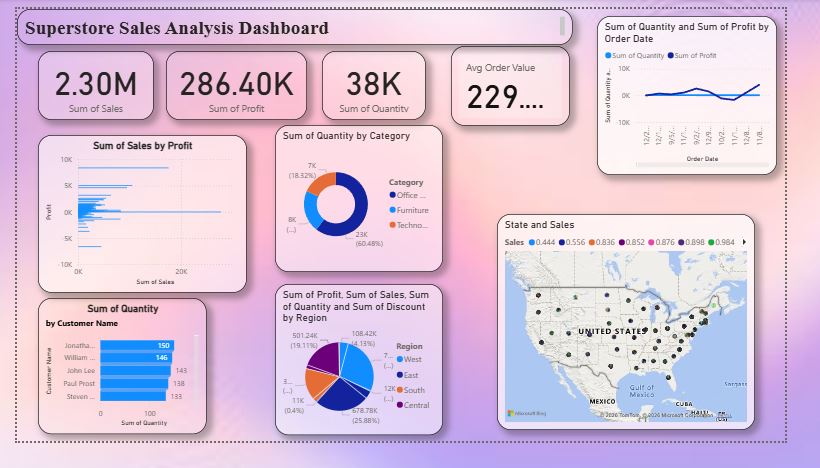

Layout of this report page (visuals, bound fields, positions):
{"tool":"powerbi","page":{"name":"Page 1","canvas":[1280,720],"ordinal":0},"visuals":[{"type":"clusteredBarChart","fields":{"Category":["Sample - Superstore.Profit"],"Y":["Sum(Sample - Superstore.Sales)"]},"box":[35,210,347.5,262.5],"z":0},{"type":"textbox","box":[0,0,926.2,60],"z":1000},{"type":"card","fields":{"Values":["Sum(Sample - Superstore.Sales)"]},"box":[35,70,192.5,115],"z":2000},{"type":"card","fields":{"Values":["Sum(Sample - Superstore.Profit)"]},"box":[247.5,70,235,115],"z":3000},{"type":"card","fields":{"Values":["Sum(Sample - Superstore.Quantity)"]},"box":[507.5,70,172.5,115],"z":4000},{"type":"donutChart","fields":{"Category":["Sample - Superstore.Category"],"Y":["Sum(Sample - Superstore.Quantity)"]},"box":[430,193.3,280,245],"z":5000},{"type":"barChart","fields":{"Category":["Sample - Superstore.Customer Name"],"Y":["Sum(Sample - Superstore.Quantity)"]},"box":[35,482,281,227],"z":6000},{"type":"lineChart","fields":{"Category":["Sample - Superstore.Order Date"],"Y":["Sum(Sample - Superstore.Quantity)","Sum(Sample - Superstore.Profit)"]},"box":[966.7,11.7,300,265],"z":7000},{"type":"map","fields":{"Category":["Sample - Superstore.State","Sample - Superstore.Country","Sample - Superstore.City"],"Series":["Sample - Superstore.Sales"]},"box":[800,341.7,430,360],"z":8000},{"type":"cardVisual","fields":{"Data":["Sample - Superstore.Avg Order Value"]},"box":[723.3,61.7,198.3,133.3],"z":9000},{"type":"pieChart","fields":{"Category":["Sample - Superstore.Region","Sample - Superstore.State","Sample - Superstore.City"],"Y":["Sum(Sample - Superstore.Profit)","Sum(Sample - Superstore.Sales)","Sum(Sample - Superstore.Quantity)","Sum(Sample - Superstore.Discount)"]},"box":[430,458.3,280,251.7],"z":10000}]}

Visuals, with their boxes in screenshot pixels (x1, y1, x2, y2), scaled from the page's 1280x720 canvas onto the 820x468 screenshot:
clusteredBarChart - Sample - Superstore.Profit x Sum(Sample - Superstore.Sales): l=22, t=136, r=245, b=307
textbox: l=0, t=0, r=593, b=39
card - Sum(Sample - Superstore.Sales): l=22, t=46, r=146, b=120
card - Sum(Sample - Superstore.Profit): l=159, t=46, r=309, b=120
card - Sum(Sample - Superstore.Quantity): l=325, t=46, r=436, b=120
donutChart - Sample - Superstore.Category x Sum(Sample - Superstore.Quantity): l=275, t=126, r=455, b=285
barChart - Sample - Superstore.Customer Name x Sum(Sample - Superstore.Quantity): l=22, t=313, r=202, b=461
lineChart - Sample - Superstore.Order Date x Sum(Sample - Superstore.Quantity): l=619, t=8, r=811, b=180
map - Sample - Superstore.State x Sample - Superstore.Country: l=512, t=222, r=788, b=456
cardVisual - Sample - Superstore.Avg Order Value: l=463, t=40, r=590, b=127
pieChart - Sample - Superstore.Region x Sample - Superstore.State: l=275, t=298, r=455, b=462
